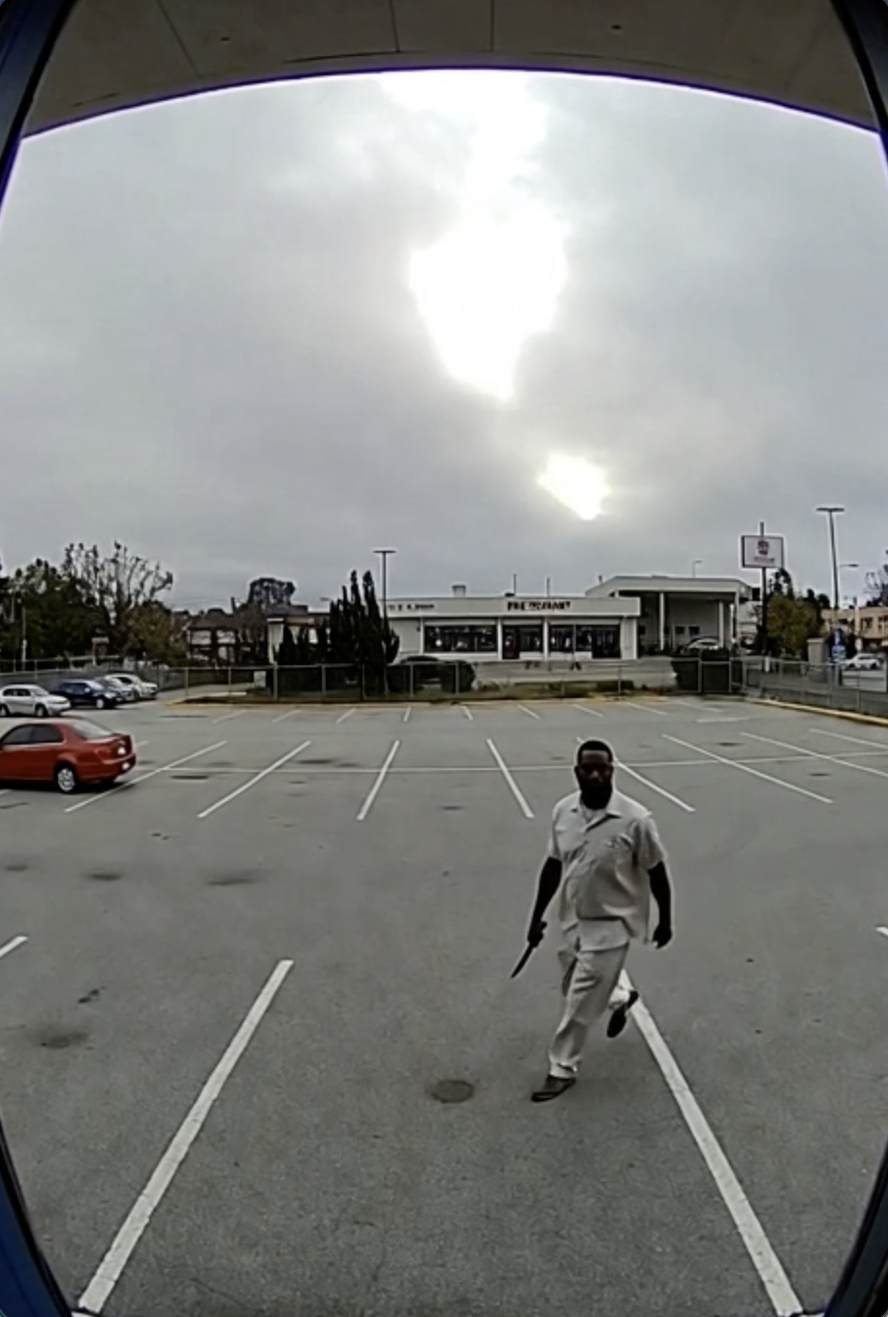Heavy Gun: (522, 746, 692, 1107)
Knife: (503, 924, 549, 979)
